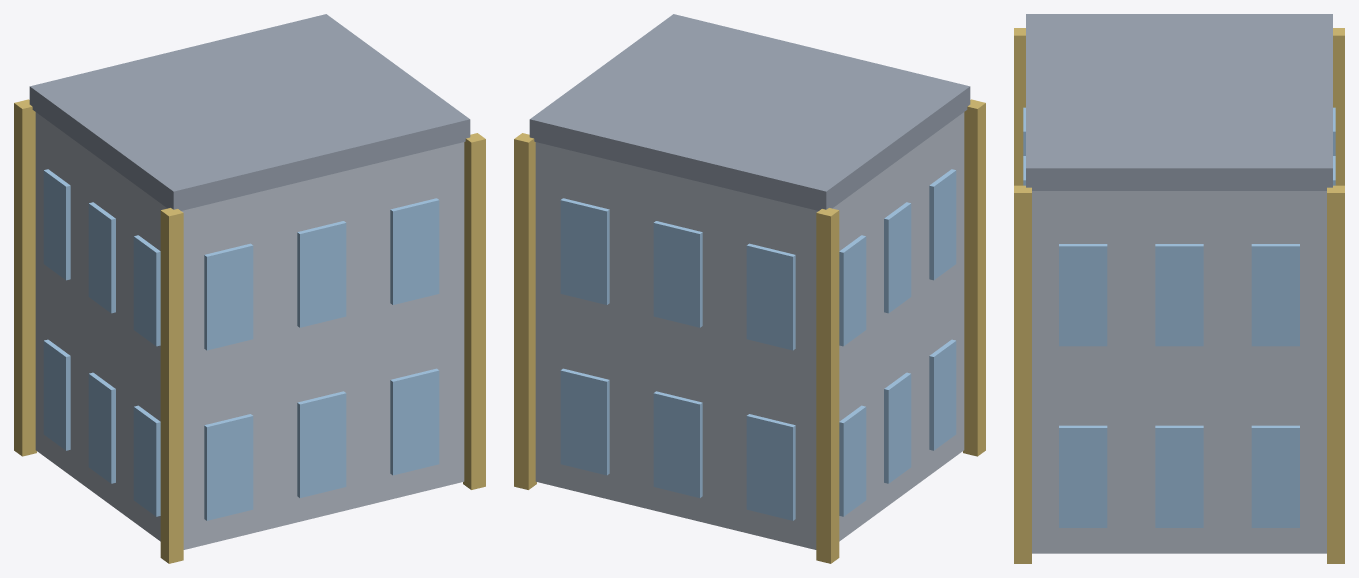
The model's file is shop_a.glb.
3 renders of one model, left to right at view 1: azimuth 30°, elevation 25°; view 2: azimuth 150°, elevation 25°; view 3: azimuth 270°, elevation 25°, orthographic. The views are drawn at different scales.
Size of the model in its own units: 5.45 by 6.01 by 4.62.
